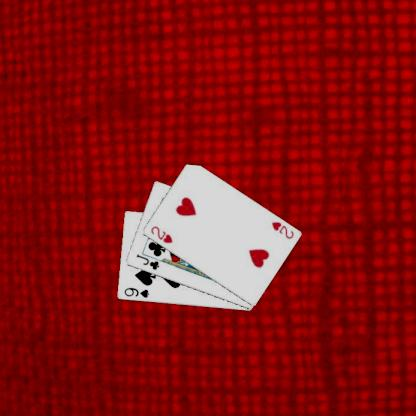2H: (148, 223, 174, 245), (268, 219, 295, 240)
9S: (121, 285, 151, 299)
JC: (133, 252, 160, 272)
